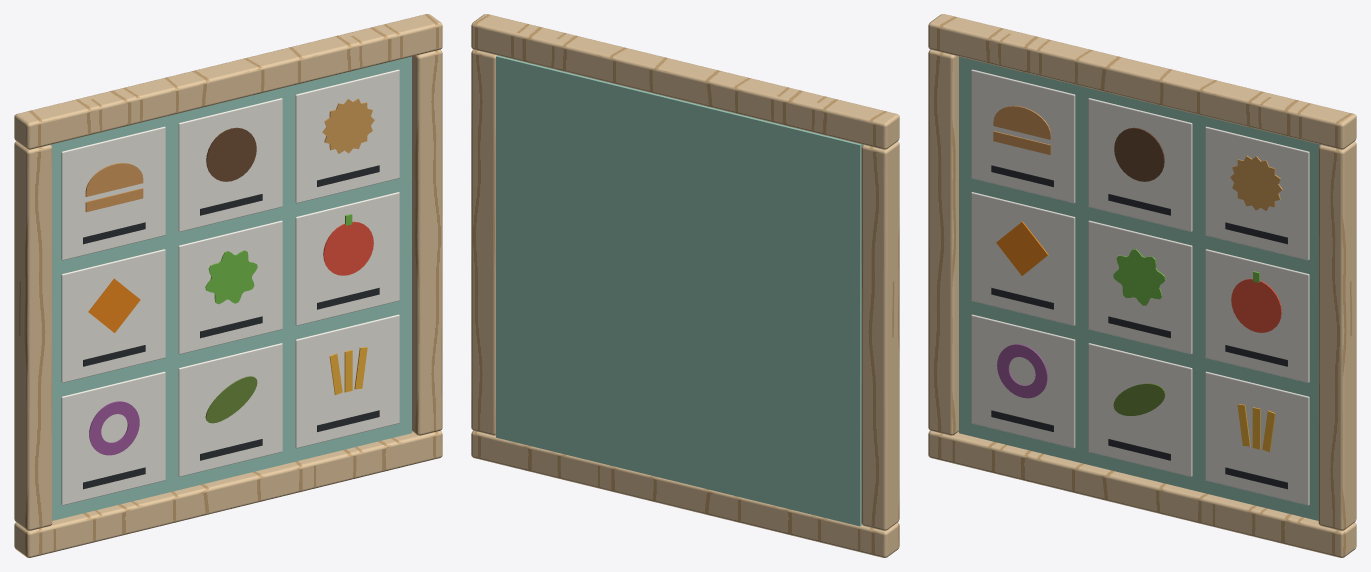
Rendered from SM_IngredientBoard.glb.
3 renders of one model, left to right at view 1: azimuth 30°, elevation 25°; view 2: azimuth 150°, elevation 25°; view 3: azimuth 330°, elevation 25°, orthographic.
Visible parts, largest first — view 1: SM_IngredientBoard, Card_4_Peynir, Card_1_Ekmek, Card_3_TavukKofte, Card_7_Sogan, Card_8_Tursu, Card_2_DanaKofte, Card_5_Marul, Card_6_Domates, Card_9_Patates; view 2: SM_IngredientBoard; view 3: SM_IngredientBoard, Card_6_Domates, Card_1_Ekmek, Card_3_TavukKofte, Card_8_Tursu, Card_9_Patates, Card_2_DanaKofte, Card_4_Peynir, Card_5_Marul, Card_7_Sogan.
Part boxes in pixels (x1=…): SM_IngredientBoard: x1=14, y1=14, x2=442, y2=557; Card_4_Peynir: x1=61, y1=249, x2=165, y2=382; Card_1_Ekmek: x1=61, y1=126, x2=165, y2=260; Card_3_TavukKofte: x1=295, y1=69, x2=399, y2=203; Card_7_Sogan: x1=61, y1=371, x2=165, y2=505; Card_8_Tursu: x1=178, y1=343, x2=282, y2=476; Card_2_DanaKofte: x1=178, y1=98, x2=282, y2=231; Card_5_Marul: x1=178, y1=220, x2=282, y2=354; Card_6_Domates: x1=295, y1=192, x2=399, y2=325; Card_9_Patates: x1=295, y1=314, x2=399, y2=448; SM_IngredientBoard: x1=471, y1=14, x2=899, y2=557; SM_IngredientBoard: x1=928, y1=14, x2=1356, y2=557; Card_6_Domates: x1=1205, y1=249, x2=1309, y2=382; Card_1_Ekmek: x1=971, y1=69, x2=1075, y2=203; Card_3_TavukKofte: x1=1205, y1=126, x2=1309, y2=260; Card_8_Tursu: x1=1088, y1=343, x2=1192, y2=476; Card_9_Patates: x1=1205, y1=371, x2=1309, y2=505; Card_2_DanaKofte: x1=1088, y1=98, x2=1192, y2=231; Card_4_Peynir: x1=971, y1=192, x2=1075, y2=325; Card_5_Marul: x1=1088, y1=220, x2=1192, y2=354; Card_7_Sogan: x1=971, y1=314, x2=1075, y2=448.
Size of the model in its own units: 0.8 by 0.8 by 0.05.
Materials: 2 (2 with a texture image).
